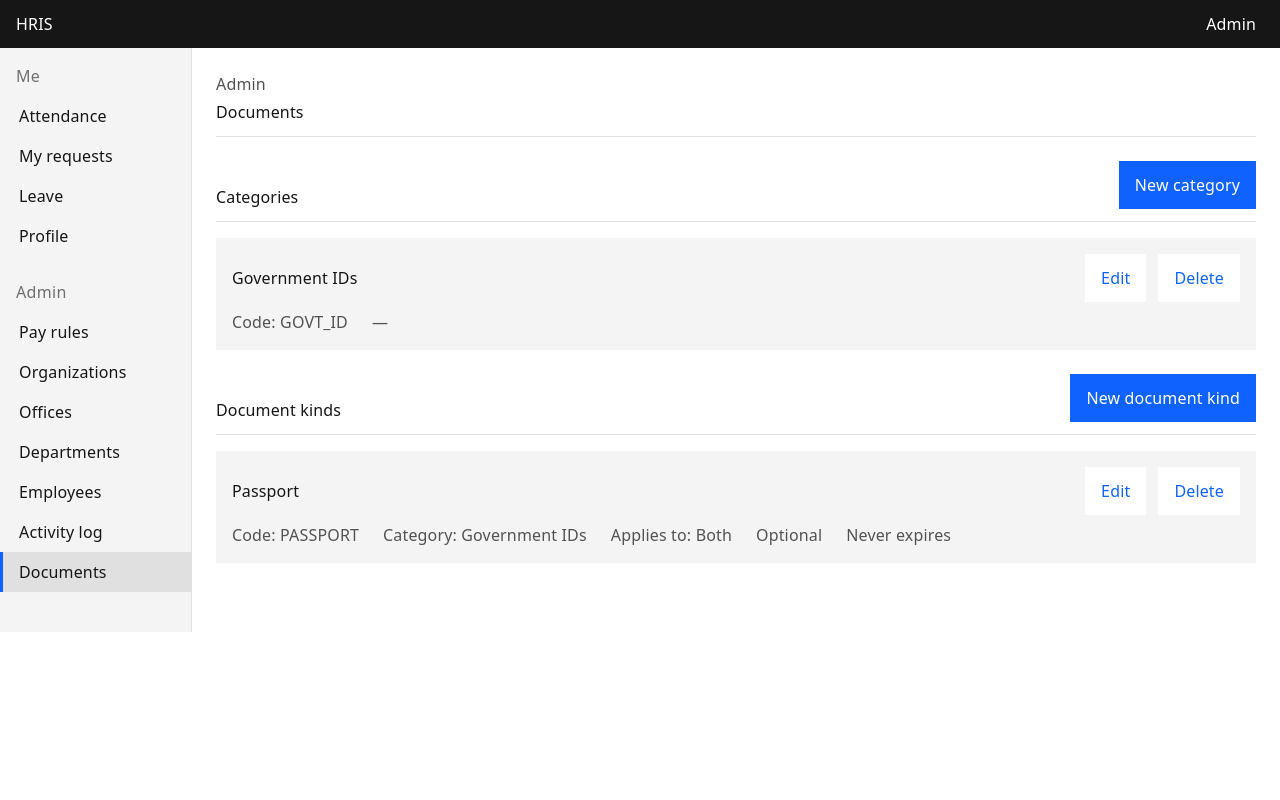
/admin/documents — delete surfaces the 409 › deleting a category still in use renders the dependents count
Expected: the text "Government IDs" is shown, [232,266,358,290]
What coordinates should you click on to do the following:
click the 1st button "Delete"
I would click on:
 (1199, 278)
Its box is [1158,254,1240,302].
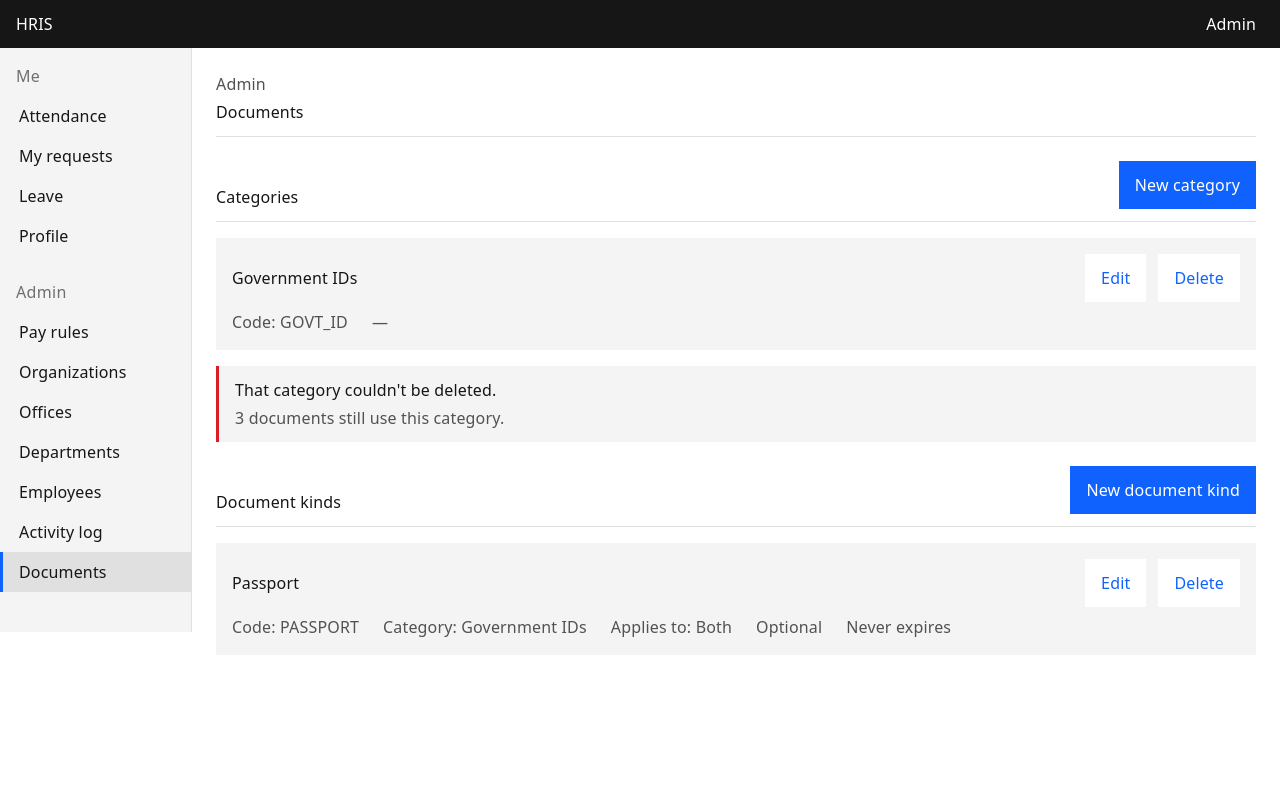
Now the text "3 documents still use this category." is shown, box [235,407,504,429]
